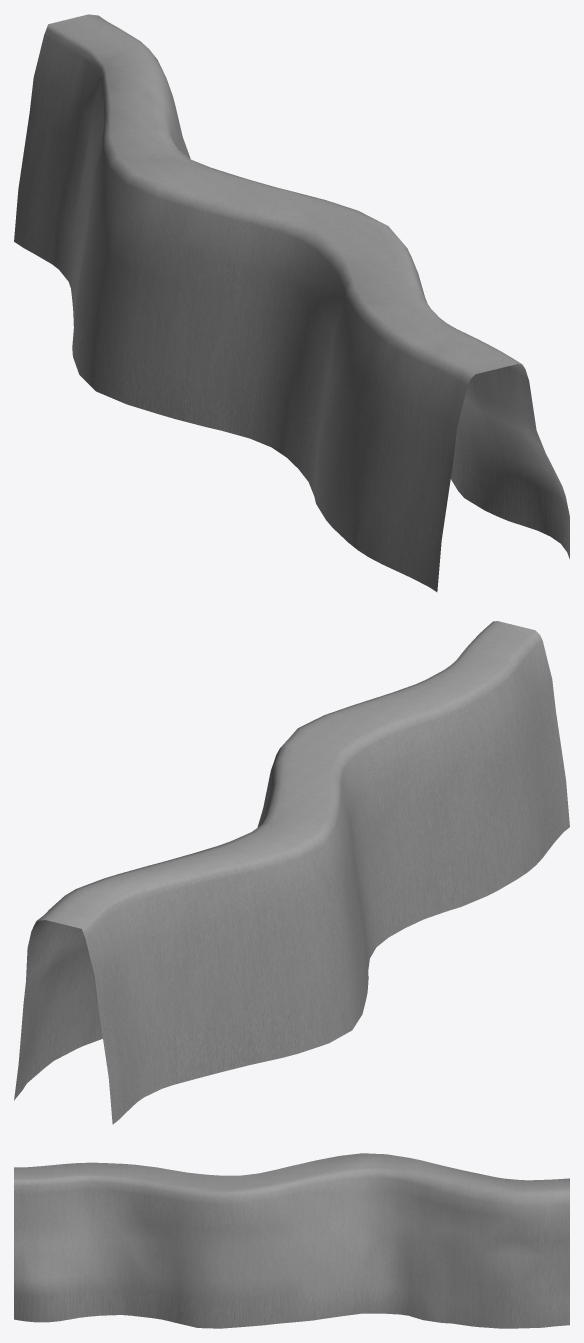
Rendered from Offroad Road.fbx.
3 renders of one model, top to bottom at view 1: azimuth 30°, elevation 25°; view 2: azimuth 150°, elevation 25°; view 3: azimuth 270°, elevation 25°, orthographic. The views are drawn at different scales.
Parts seen in each view (by area): view 1: Offroad_Road; view 2: Offroad_Road; view 3: Offroad_Road.
Part boxes in pixels (x1,y1,x2,y2): Offroad_Road: [14, 14, 569, 591]; Offroad_Road: [14, 621, 569, 1124]; Offroad_Road: [14, 1153, 569, 1328].
Bounding box in the file's own units: 2664 × 2491 × 10046.
